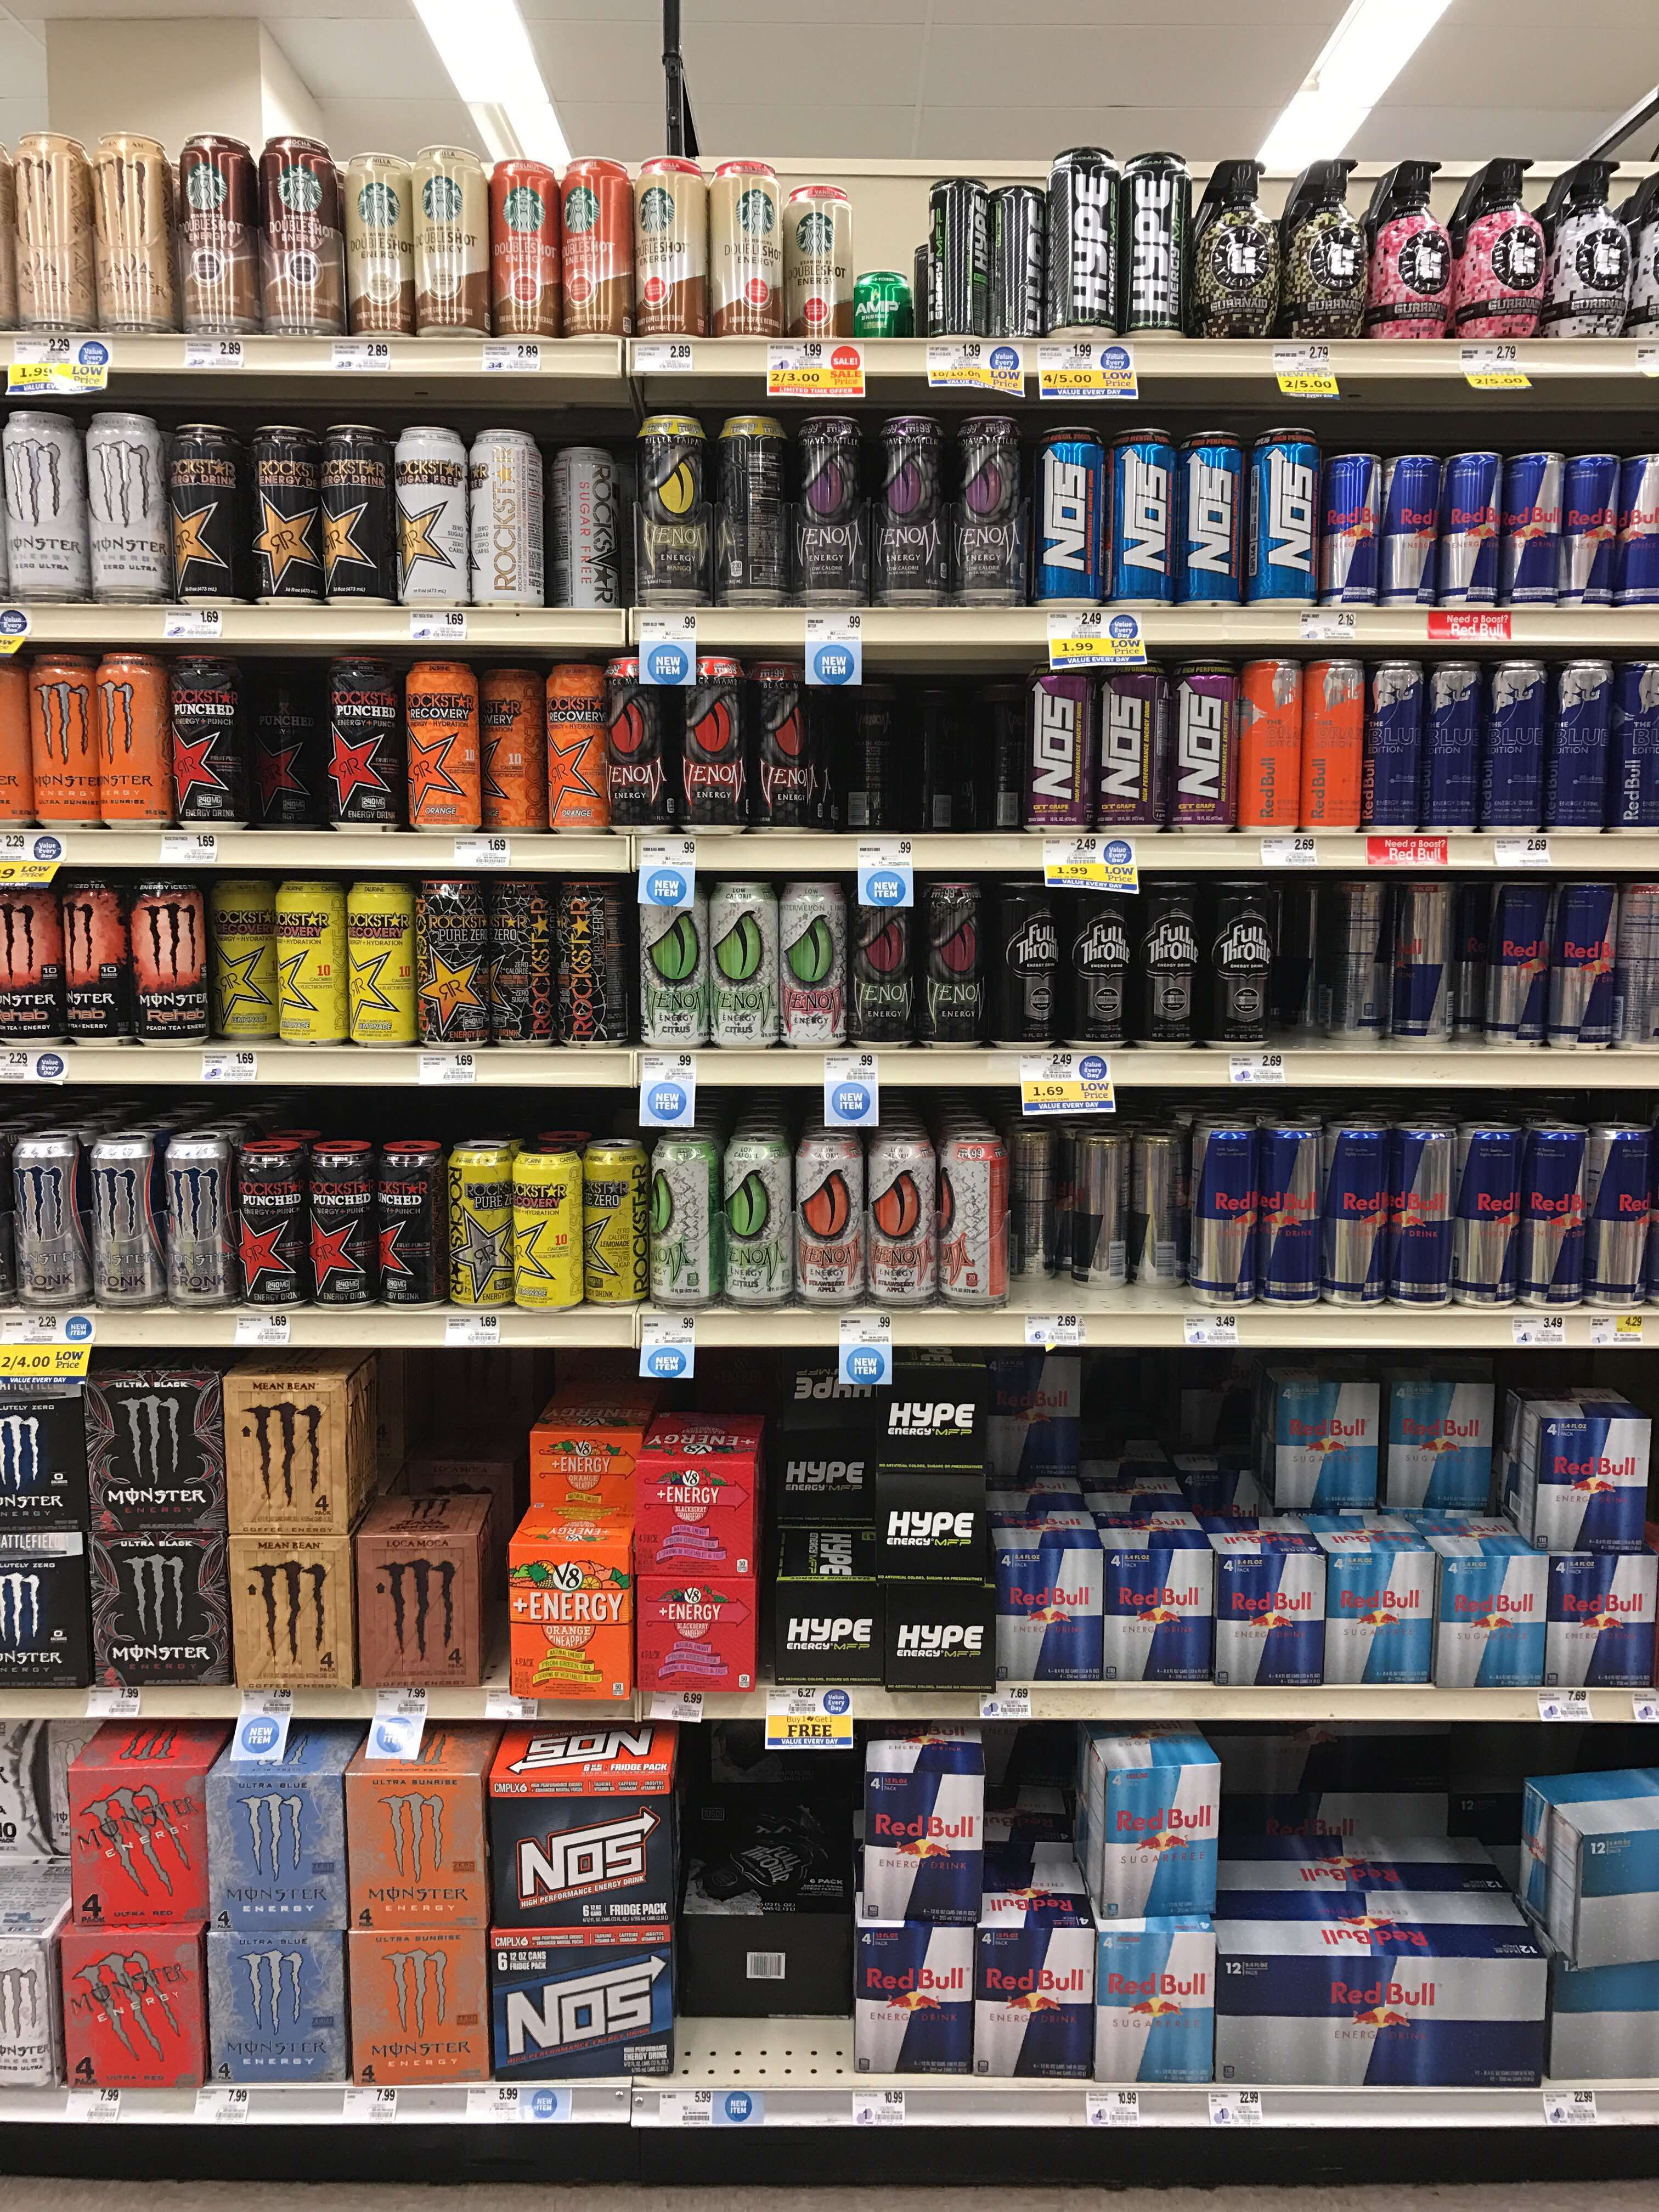Misplacement: (1011, 1122, 1185, 1308)
